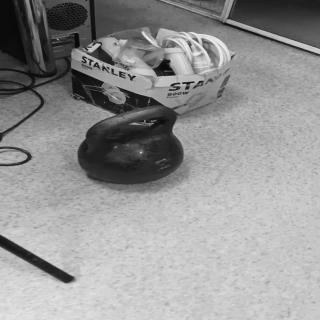kettlebell: (77, 108, 186, 187)
